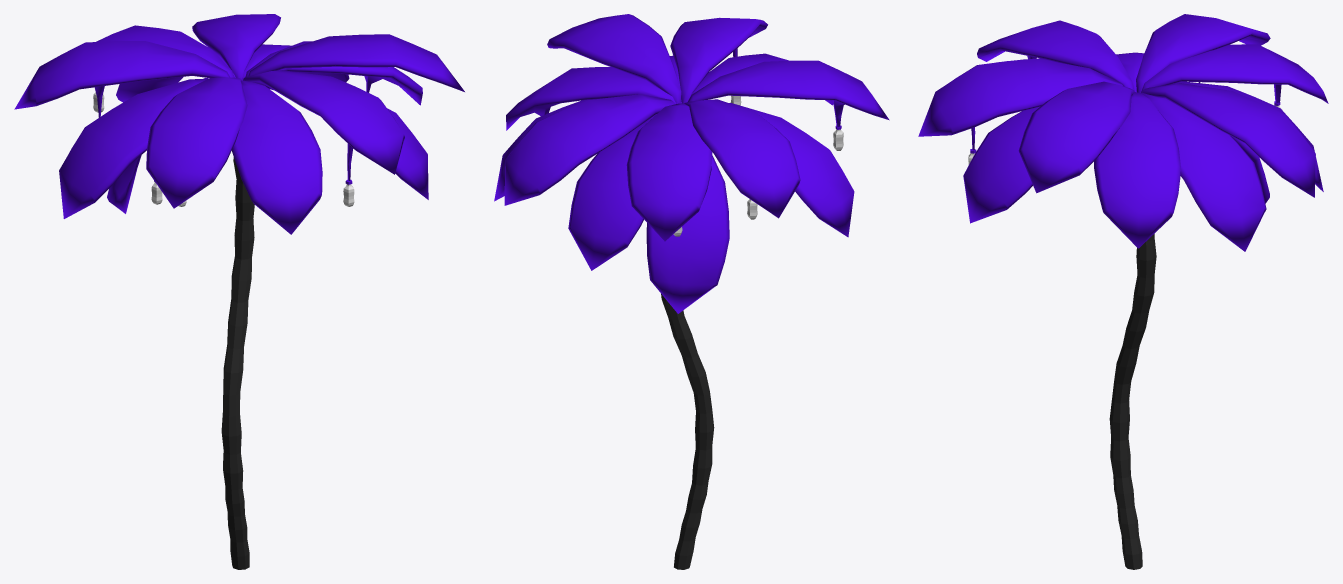
Rendered from ResinPalm.fbx.
The picture shows the model from 3 angles, left to right: view 1: azimuth 30°, elevation 25°; view 2: azimuth 150°, elevation 25°; view 3: azimuth 270°, elevation 25°; orthographic projection. The views are drawn at different scales.
Visible parts, largest first — view 1: Cylinder.012; view 2: Cylinder.012; view 3: Cylinder.012.
Part boxes in pixels (<box>): Cylinder.012: <box>14,14,464,569</box>; Cylinder.012: <box>494,14,889,569</box>; Cylinder.012: <box>918,14,1328,569</box>.
Bounding box in the file's own units: 236 × 327 × 240.
